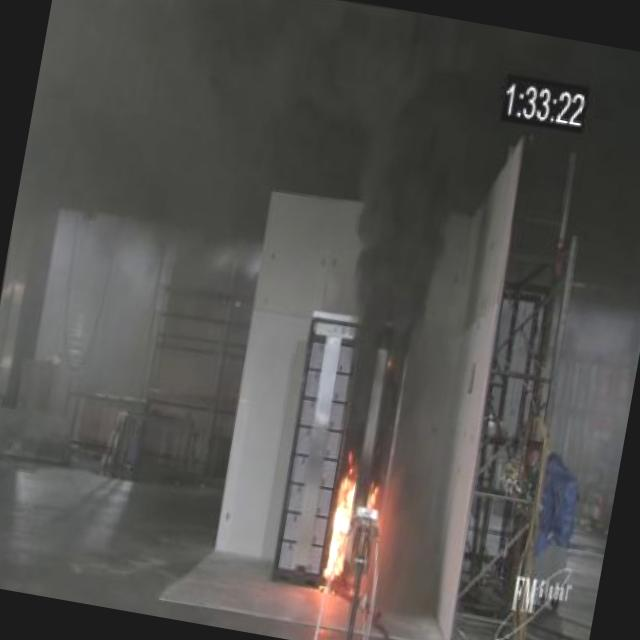fire: (302, 434, 391, 599)
